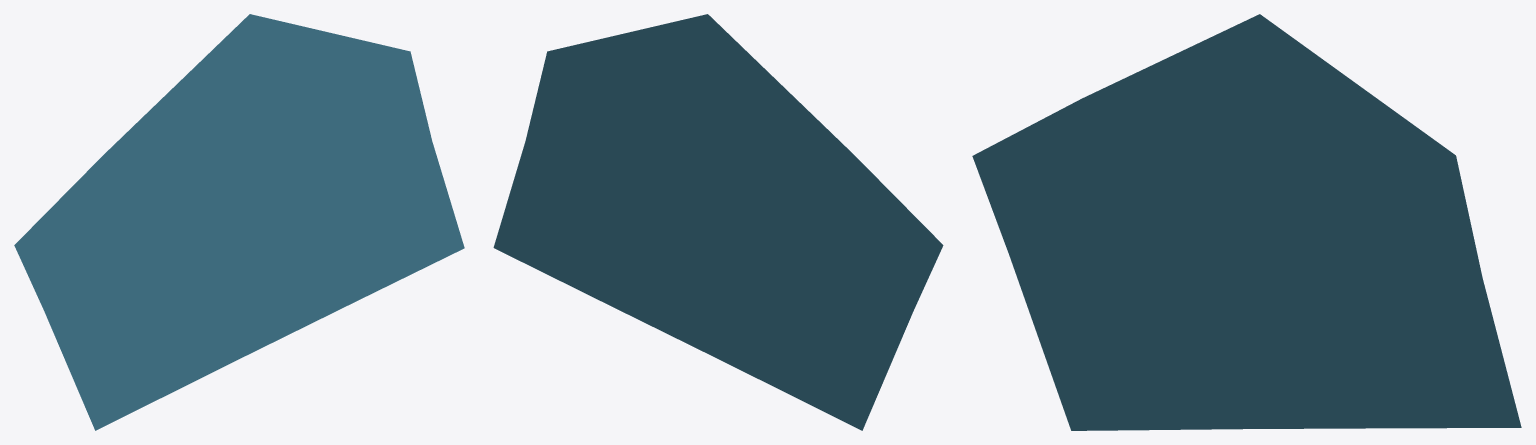
Rendered from NexusA_Cloth_27.fbx.
3 renders of one model, left to right at view 1: azimuth 30°, elevation 25°; view 2: azimuth 150°, elevation 25°; view 3: azimuth 330°, elevation 25°, orthographic. The views are drawn at different scales.
Parts seen in each view (by area): view 1: pasted__polySurface96; view 2: pasted__polySurface96; view 3: pasted__polySurface96.
Part boxes in pixels (x1,y1,x2,y2): pasted__polySurface96: (14, 14, 464, 430); pasted__polySurface96: (493, 14, 943, 430); pasted__polySurface96: (972, 14, 1521, 430).
Size of the model in its own units: 47.24 by 38.02 by 0.0423.
